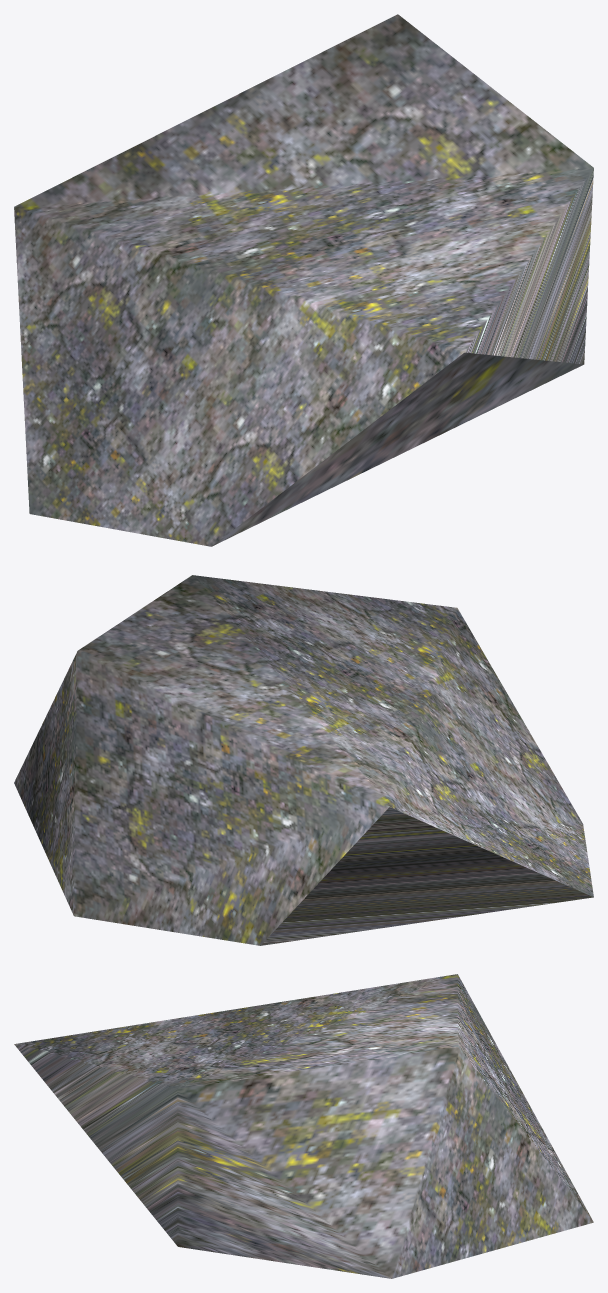
File: rock_weatheredmossy_medium_a2_l2.fbx
3 renders of one model, top to bottom at view 1: azimuth 30°, elevation 25°; view 2: azimuth 150°, elevation 25°; view 3: azimuth 270°, elevation 25°, orthographic. The views are drawn at different scales.
Parts seen in each view (by area): view 1: mesh_node; view 2: mesh_node; view 3: mesh_node.
Part boxes in pixels (<box>): mesh_node: <box>14,14,593,546</box>; mesh_node: <box>14,575,593,945</box>; mesh_node: <box>14,974,593,1278</box>.
Size of the model in its own units: 0.4028 by 0.1732 by 0.3925.
Materials: 1 (1 with a texture image).
